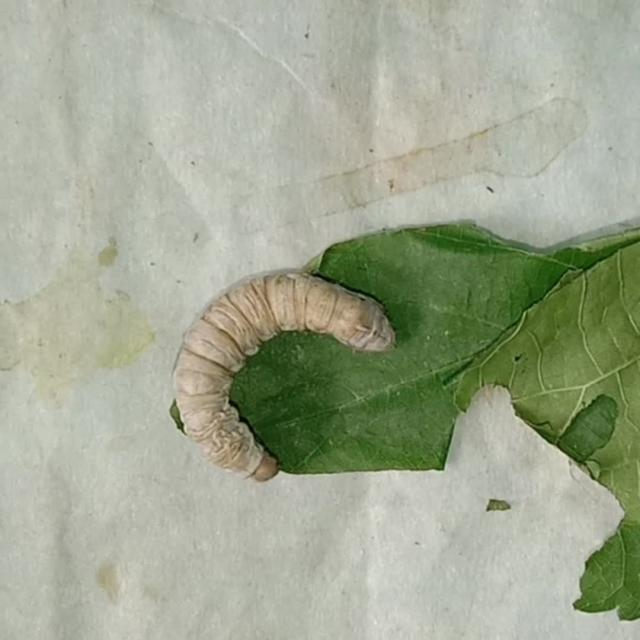Grasserie: (153, 243, 455, 504)
